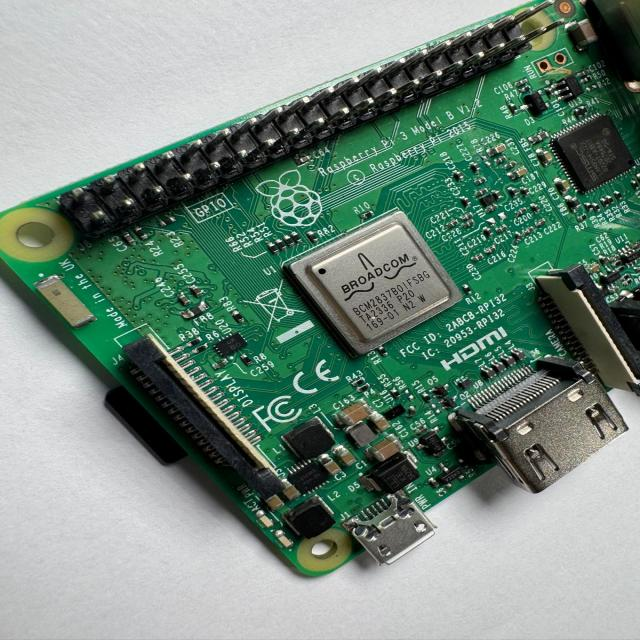CPU: (290, 211, 463, 358)
GPIO: (31, 0, 551, 244)
HDMI: (472, 358, 628, 495)
RAM-3: (553, 116, 635, 197)
